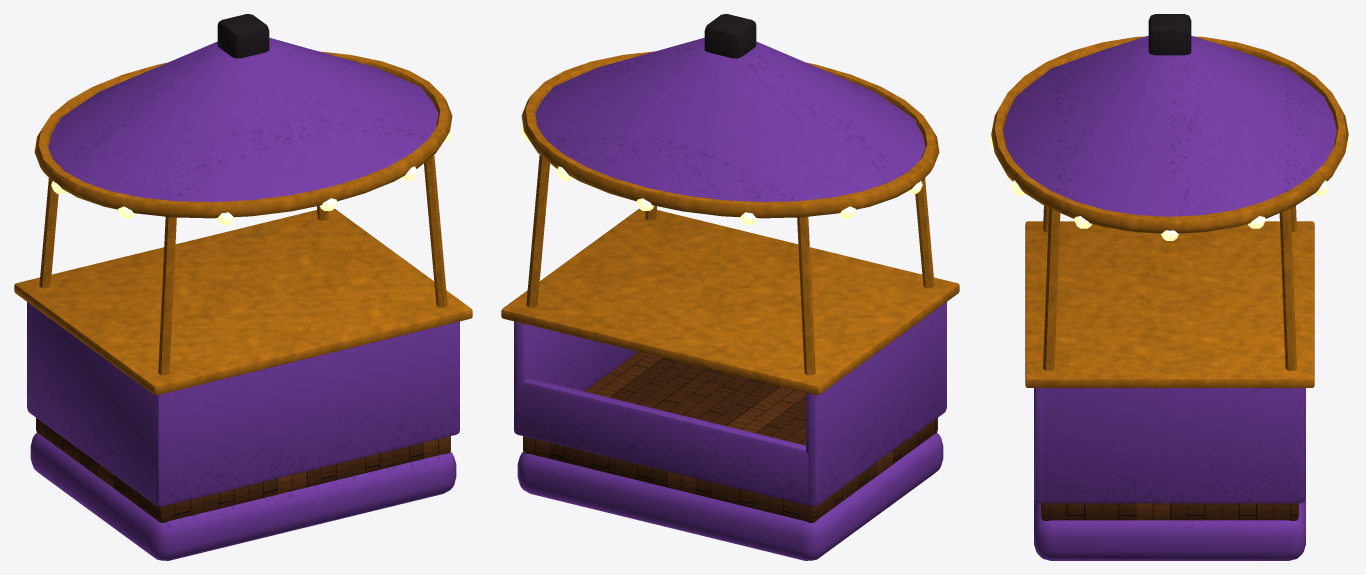
File: gondola-purple.glb
The picture shows the model from 3 angles, left to right: view 1: azimuth 30°, elevation 25°; view 2: azimuth 150°, elevation 25°; view 3: azimuth 270°, elevation 25°; orthographic projection.
Visible parts, largest first — view 1: gondola-purple; view 2: gondola-purple; view 3: gondola-purple.
Boxes of the visible parts, x1,y1,x2,y2 form: gondola-purple: [14, 14, 472, 560]; gondola-purple: [501, 14, 959, 560]; gondola-purple: [988, 14, 1351, 560].
Bounding box in the file's own units: 3.12 × 3.62 × 2.54.
Materials: 7 (4 with a texture image).
